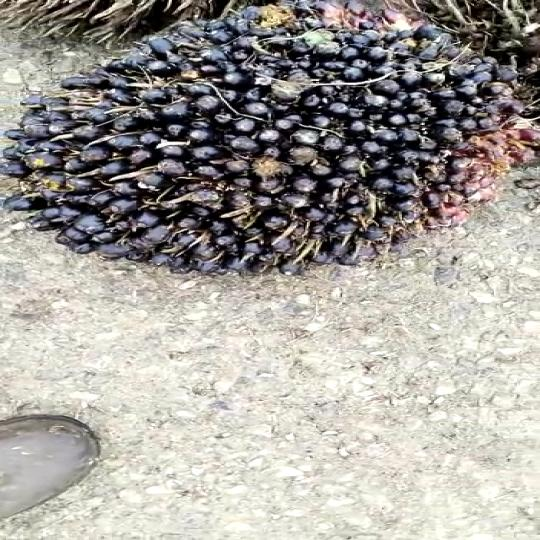mentah: (0, 0, 540, 278)
